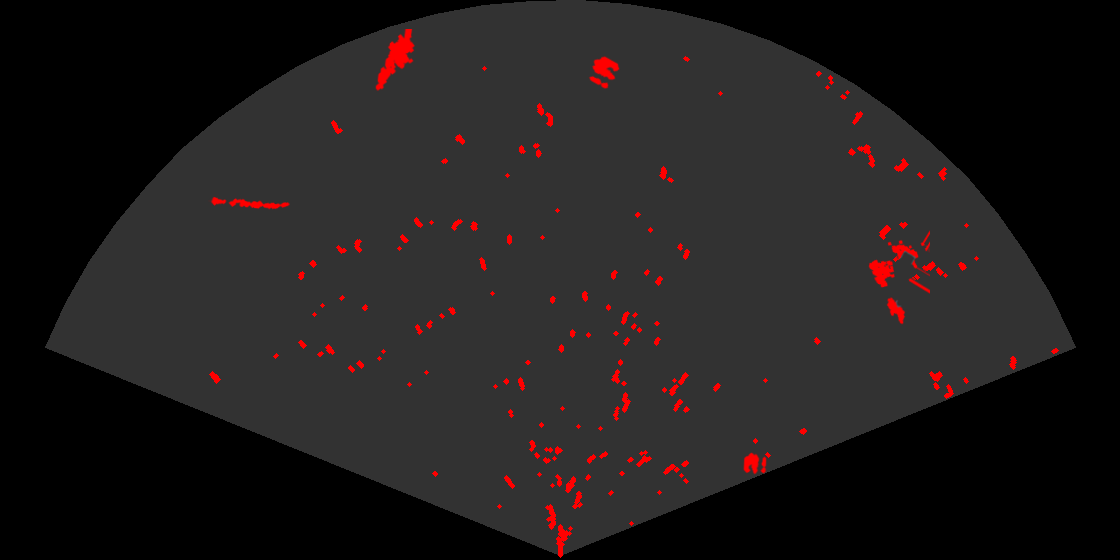AUV: (885, 296, 909, 326)
ball: (587, 54, 621, 90), (742, 451, 768, 476)
cage: (867, 229, 930, 295)
chain: (208, 195, 290, 211)
frogman: (374, 29, 416, 93)
